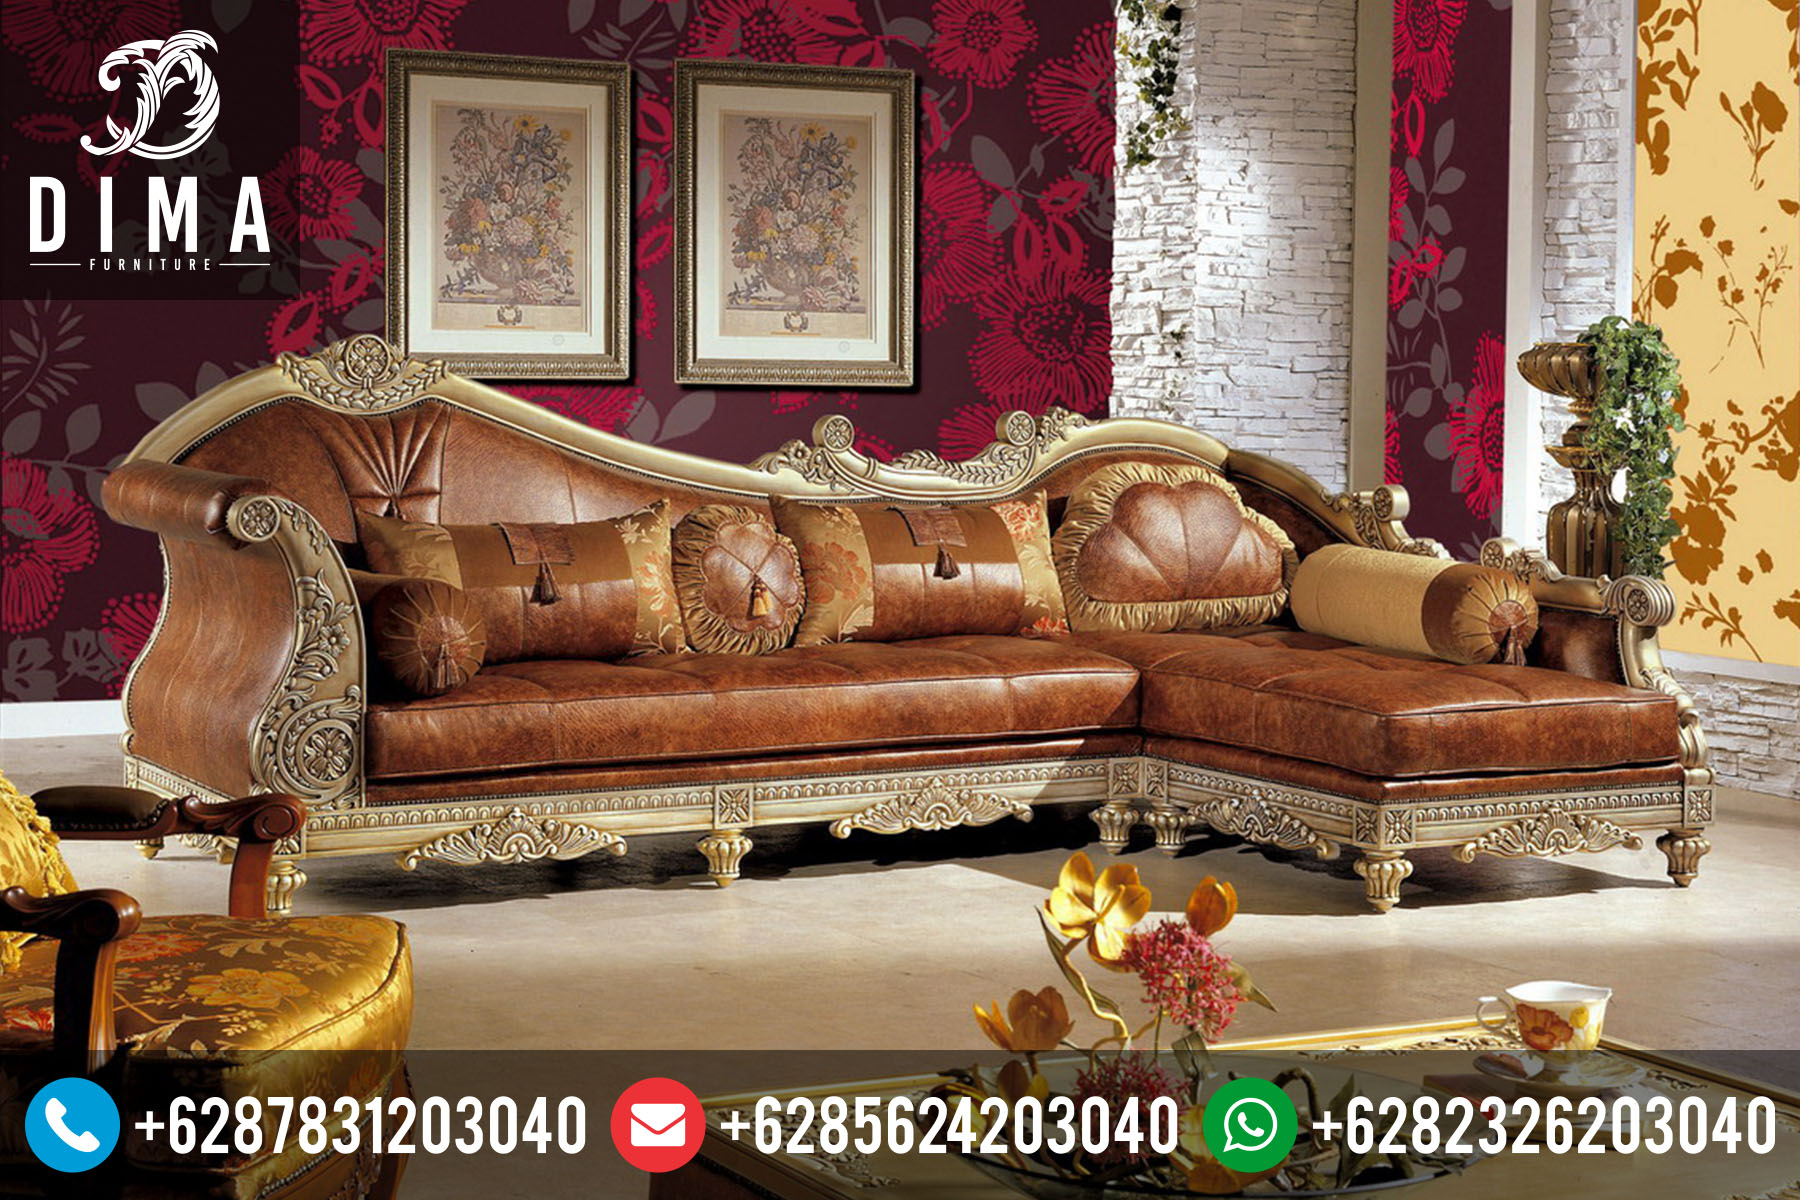Carving Chair: (100, 363, 1700, 889)
